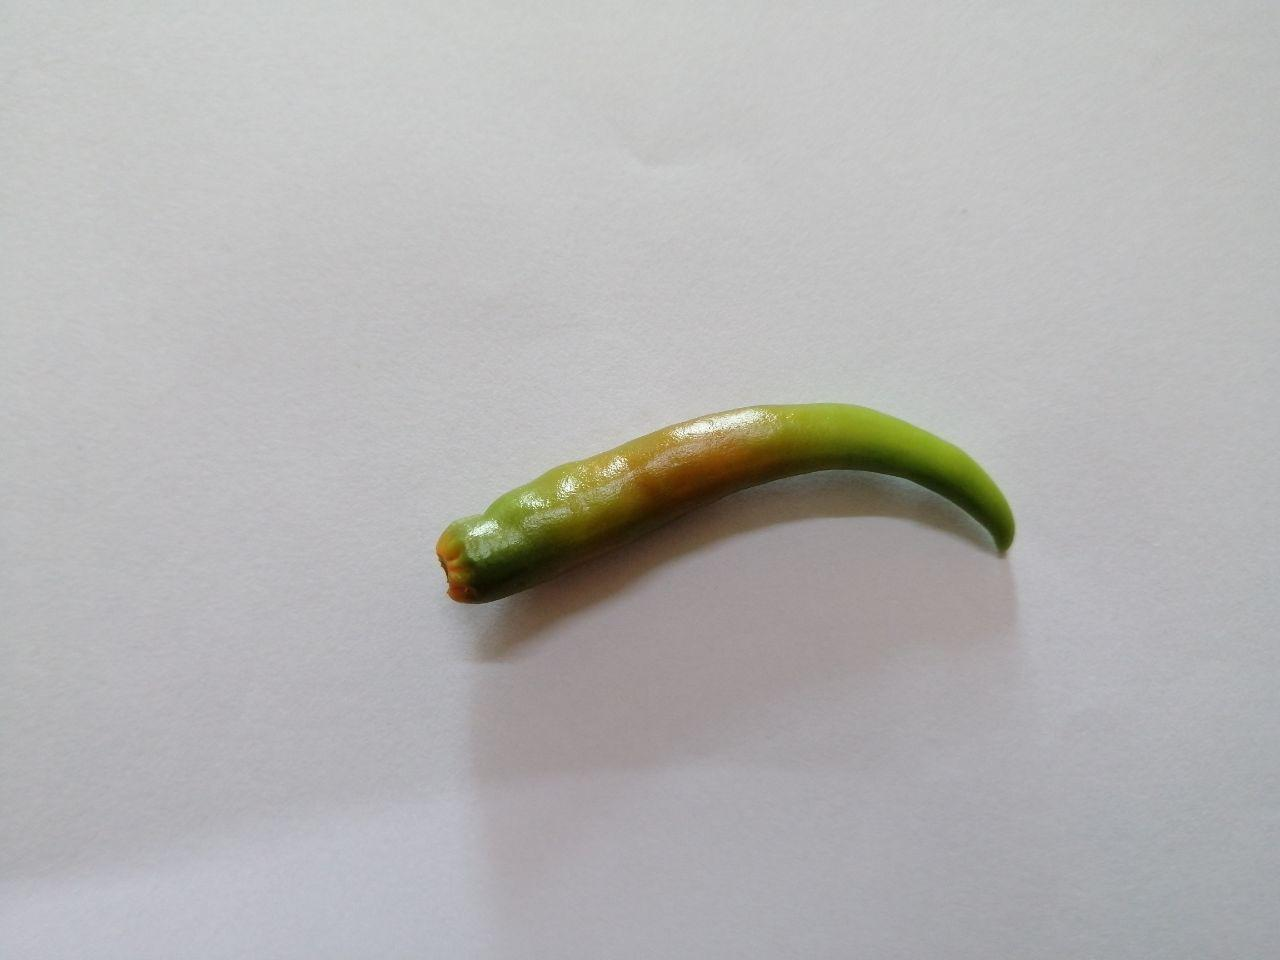lada kuning: (408, 383, 1044, 622)
